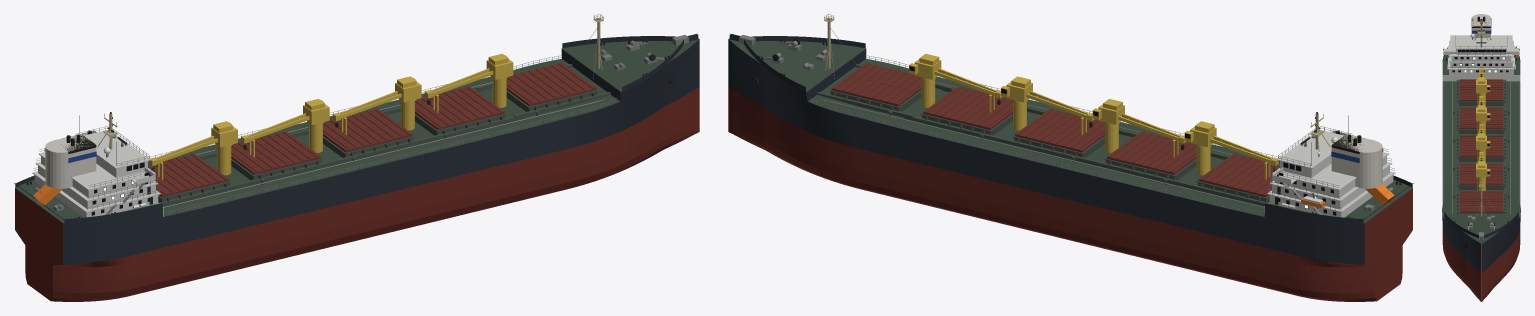
The model's file is bulk.glb.
3 renders of one model, left to right at view 1: azimuth 30°, elevation 25°; view 2: azimuth 150°, elevation 25°; view 3: azimuth 270°, elevation 25°, orthographic. The views are drawn at different scales.
Parts seen in each view (by area): view 1: hull, ship_static; view 2: hull, ship_static; view 3: ship_static, hull.
Part boxes in pixels (x1,y1,x2,y2): hull: (15, 38, 699, 301); ship_static: (14, 14, 698, 223); hull: (728, 38, 1412, 301); ship_static: (729, 14, 1413, 223); ship_static: (1442, 14, 1520, 248); hull: (1442, 55, 1520, 301).
Bounding box in the file's own units: 185 × 43.39 × 30.4.
